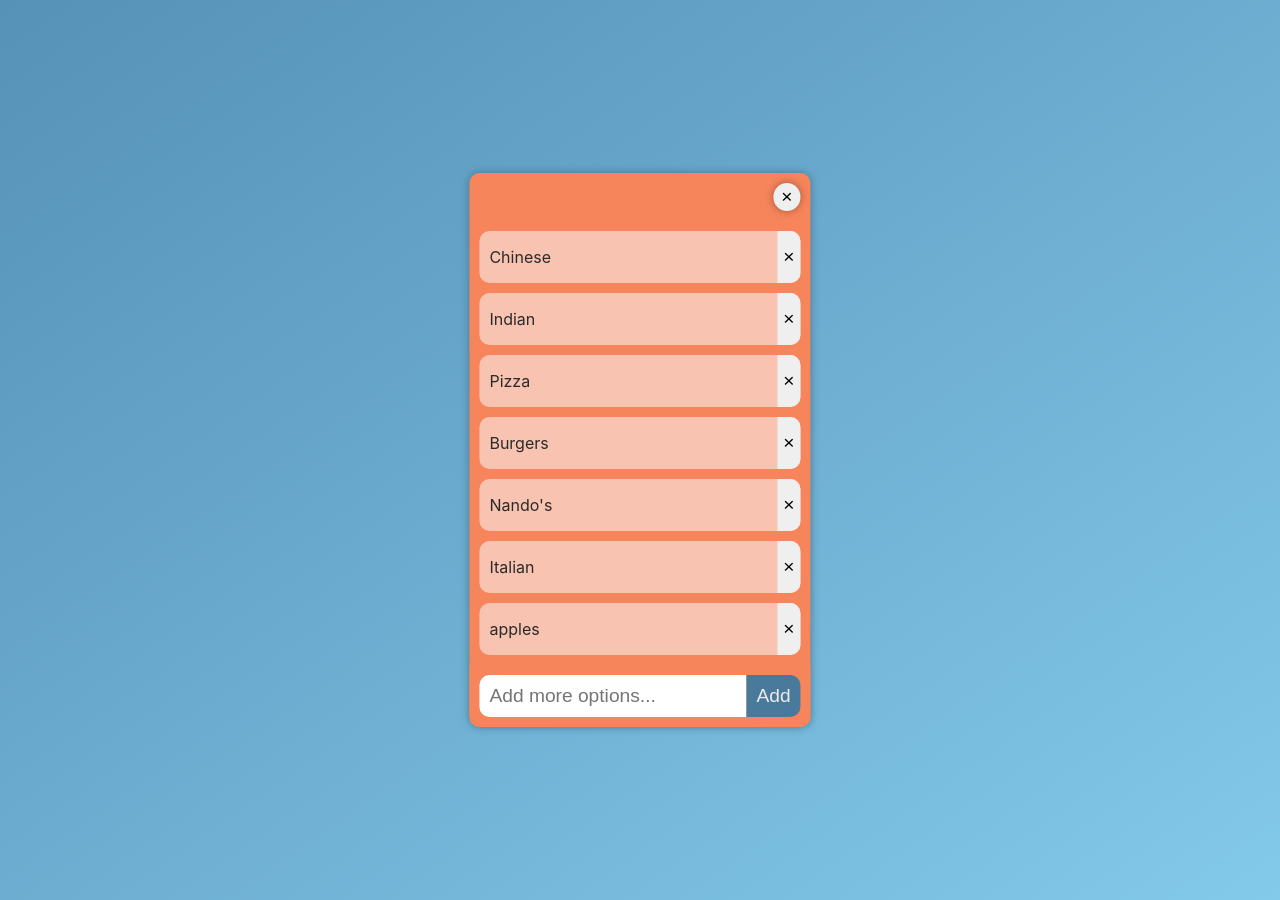
it: App › removes an item from the list
The image size is (1280, 900).
Step 1. Click the button with class "deleteButton" in the row of "Chinese" → [789, 257], box left=777, top=231, right=801, bottom=283
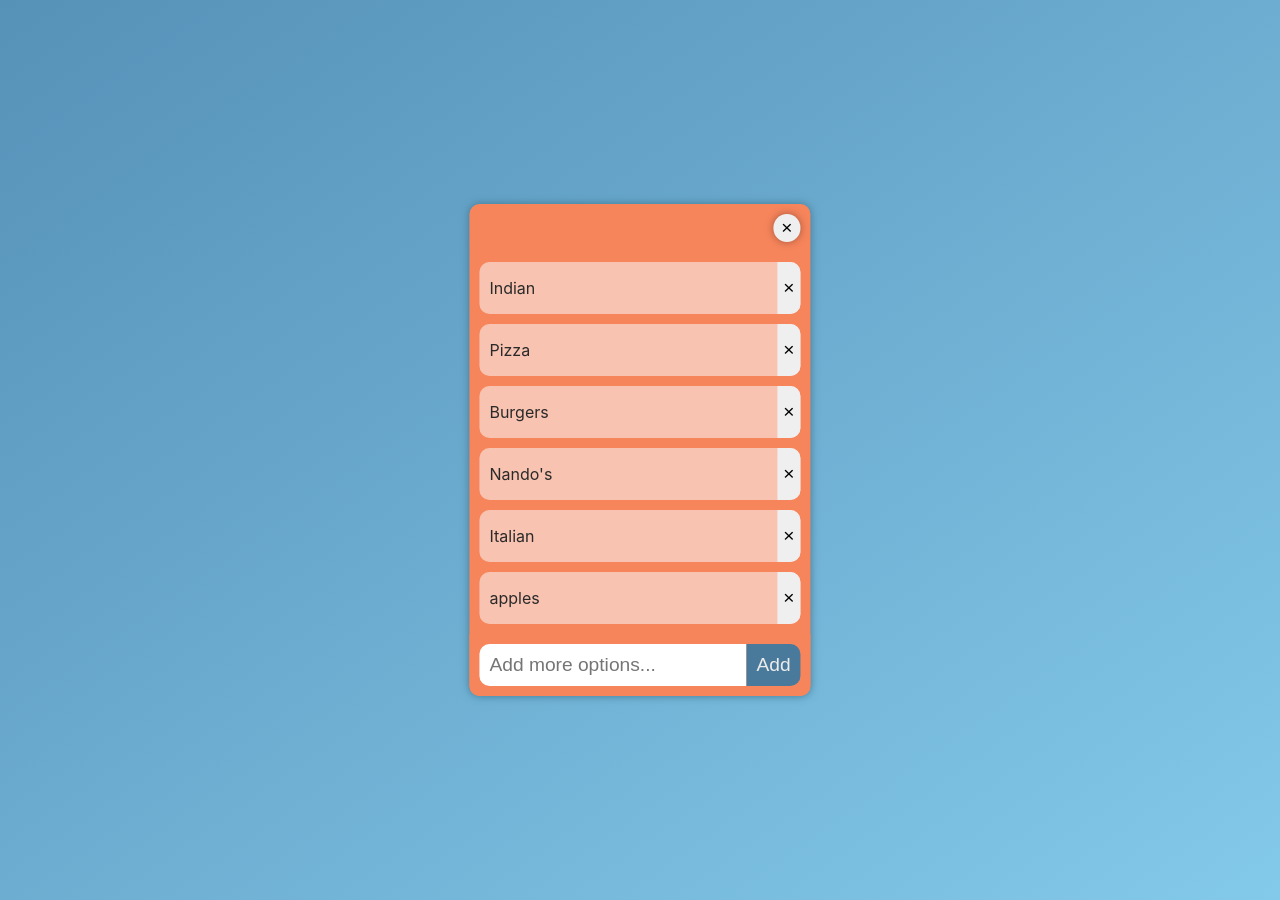
Expected: the number of elements with class "itemName" is 6, left=479, top=262, right=800, bottom=314
